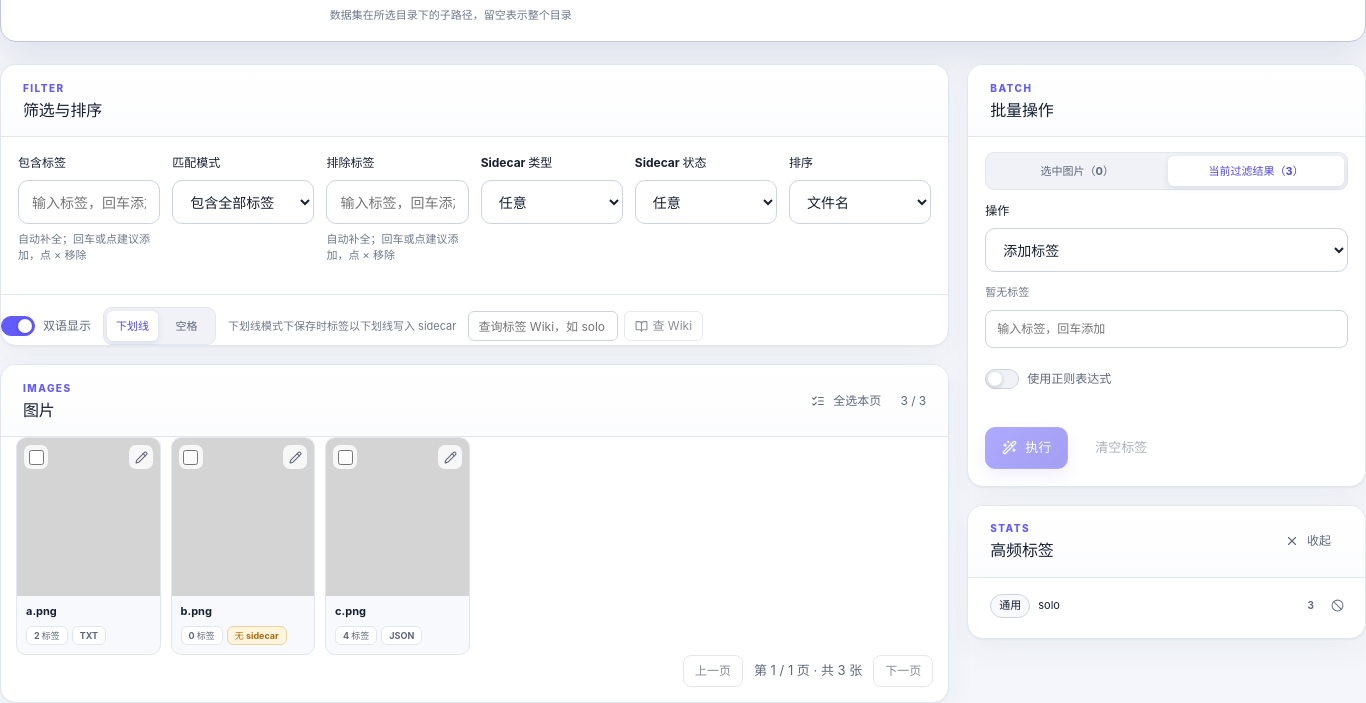
Test case: TagManager page › selects images through checkboxes and 全选本页
This screenshot has width=1366, height=703.
(page scrolled)
Click the checkbox named "选择 a.png".
click(36, 457)  # box top-left (28, 450), bottom-right (44, 464)
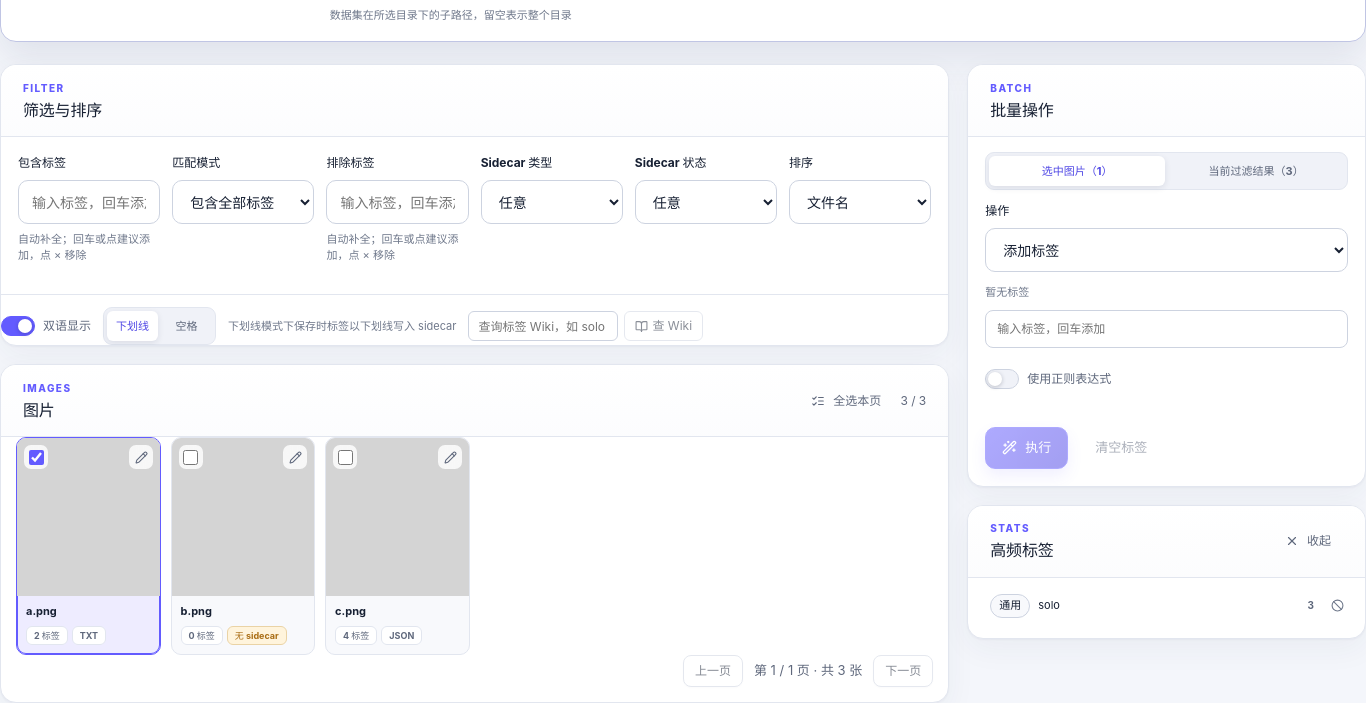
Now the button "选中图片（1）" is shown, box top-left (989, 156), bottom-right (1165, 186)
Click the checkbox named "选择 b.png".
click(190, 457)  # box top-left (183, 450), bottom-right (198, 464)
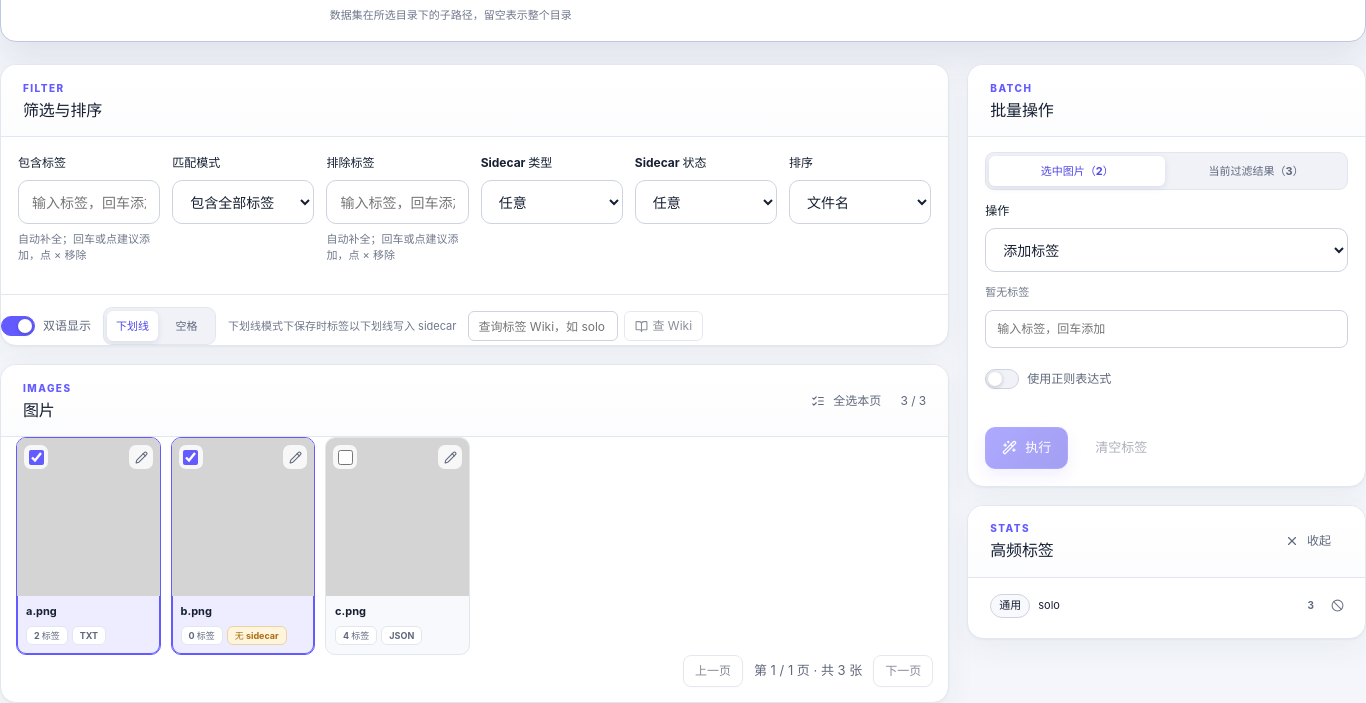
Now the button "选中图片（2）" is shown, box top-left (989, 156), bottom-right (1165, 186)
Click the button "全选本页".
click(846, 400)  # box top-left (799, 384), bottom-right (893, 416)
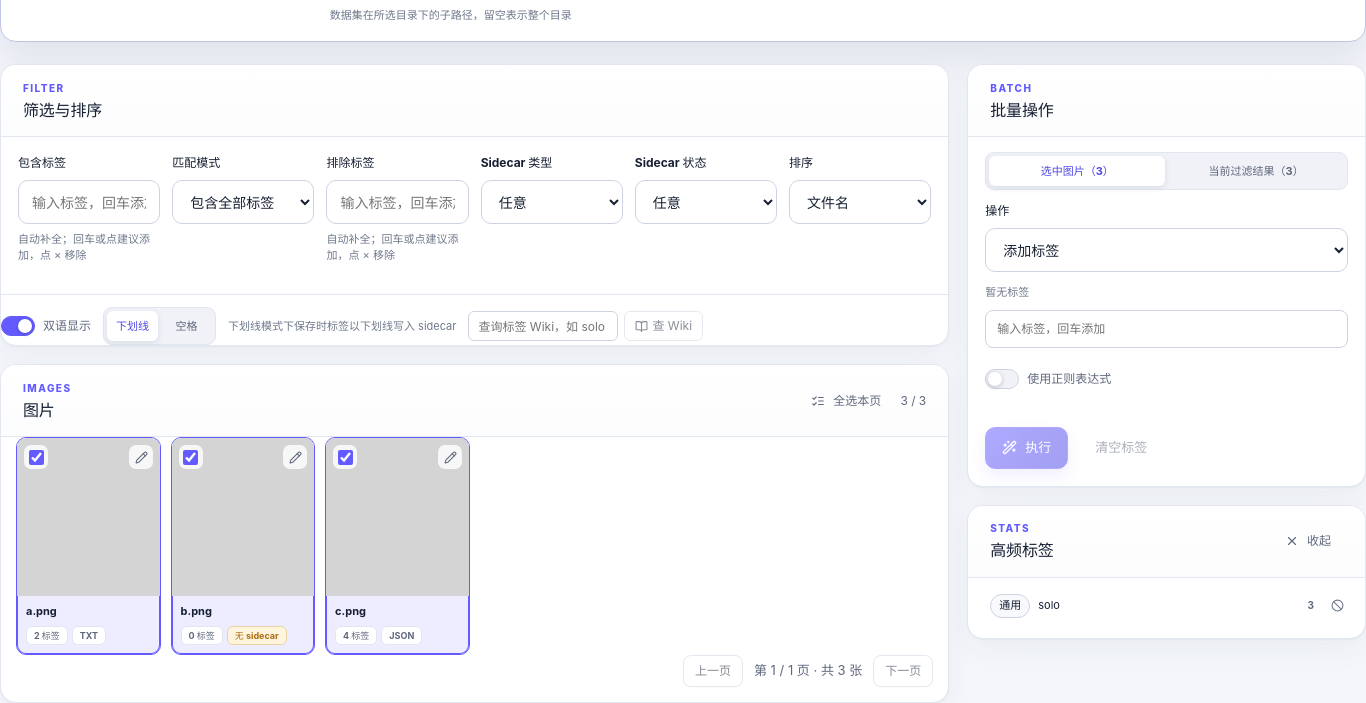
Now the button "选中图片（3）" is shown, box top-left (989, 156), bottom-right (1165, 186)
Now the checkbox named "选择 c.png" is checked, box top-left (338, 450), bottom-right (353, 464)
